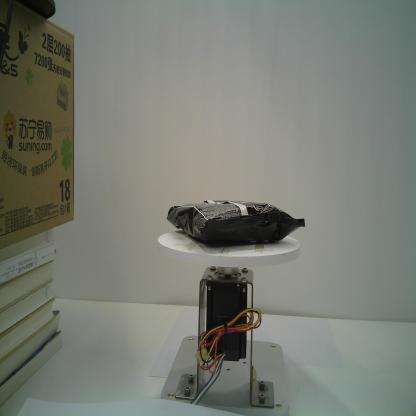Instant Noodles: (166, 198, 306, 250)
